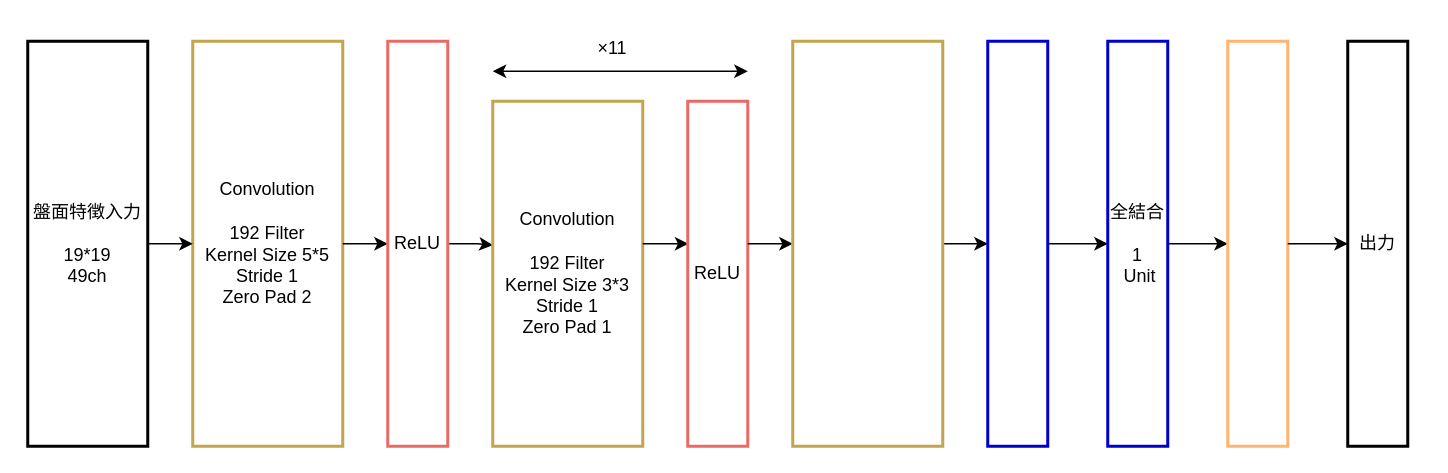
Some shapes in this 1448 by 473 pixel diagram are drawn without their labels. Here are the shapes that lost their labels. From the top down, the centre of each, then its label:
point (867, 243): Convolution 192 Filter Kernel Size 1*1 Stride 1
point (1017, 243): 全結合 256 Unit
point (1257, 243): TanH
